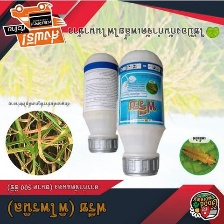insecticide: (115, 46, 167, 180), (80, 50, 124, 156)
